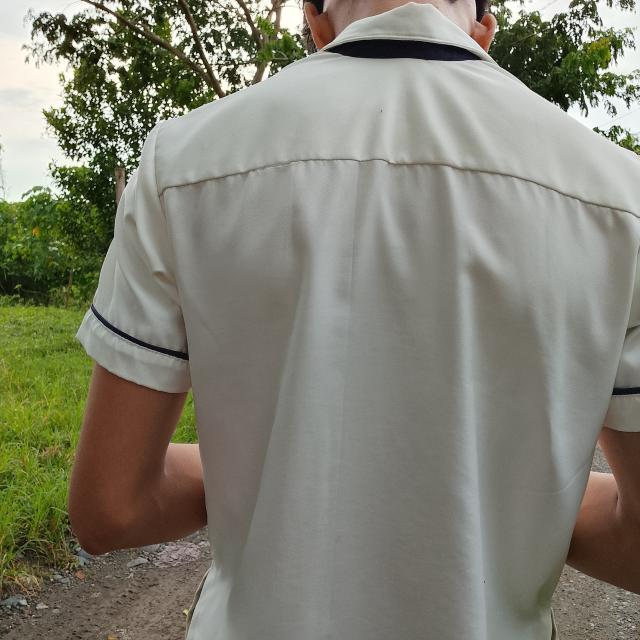education_male_uniform: (34, 0, 640, 519)
